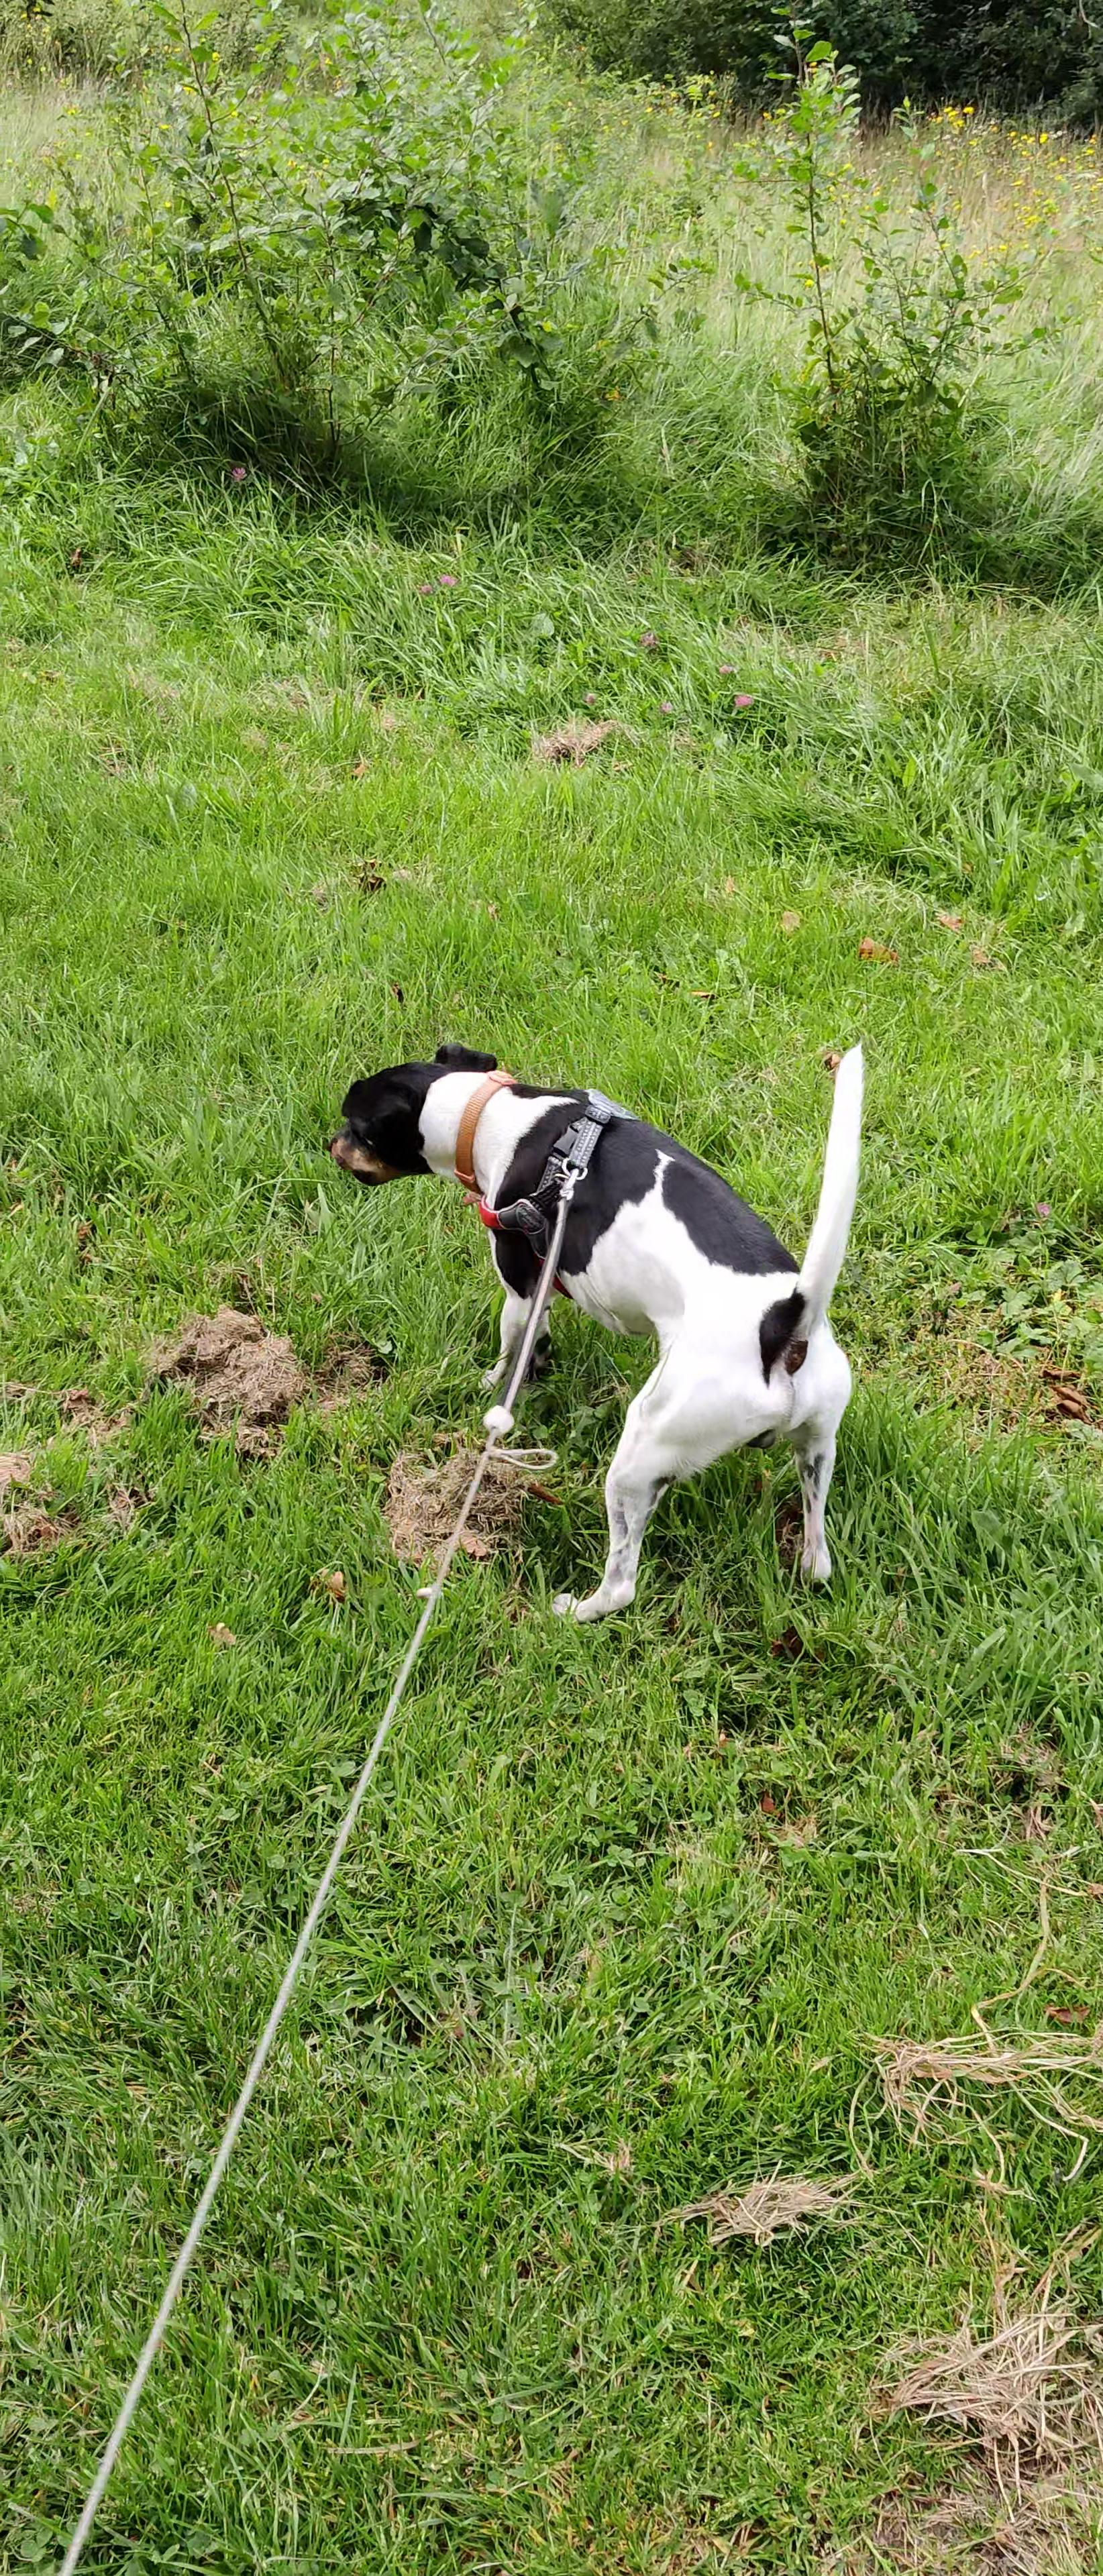Dog: (314, 1025, 875, 1628)
